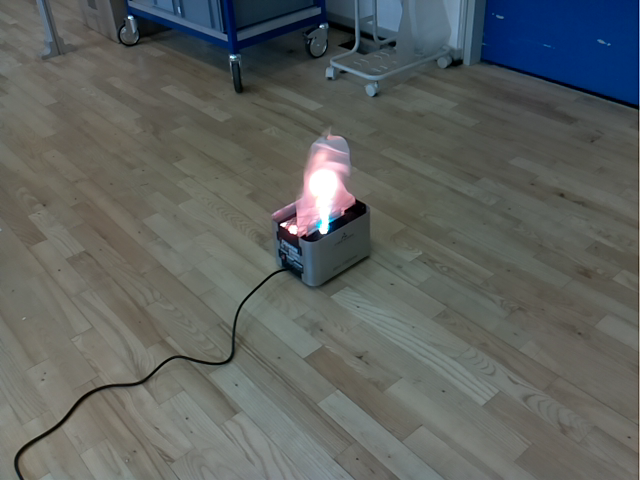fire: (296, 124, 356, 236)
